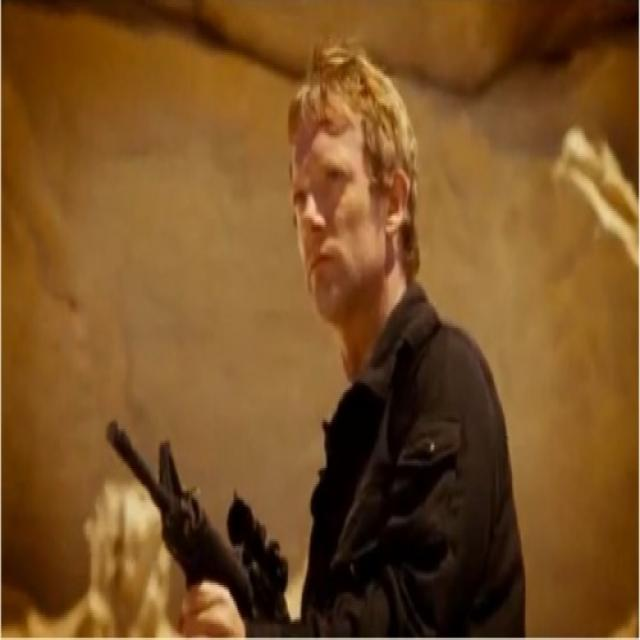rifle: (106, 413, 298, 622)
